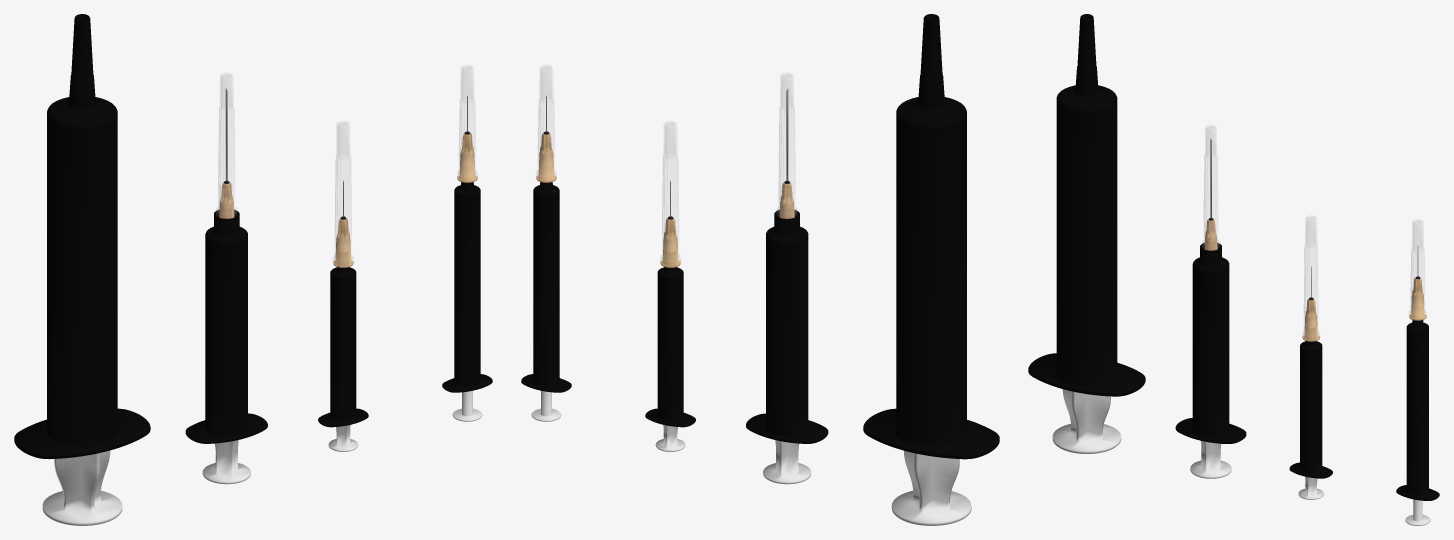
The model's file is medical_collection_012_fbx.fbx.
3 renders of one model, left to right at view 1: azimuth 30°, elevation 25°; view 2: azimuth 150°, elevation 25°; view 3: azimuth 330°, elevation 25°, orthographic. The views are drawn at different scales.
Parts seen in each view (by area): view 1: Mesh_013, Mesh_021, Mesh_001, Mesh_012, Mesh_005, Mesh_016, Mesh_018, Mesh_017, Mesh_019, Mesh_022, Mesh_004; view 2: Mesh_013, Mesh_021, Mesh_001, Mesh_012, Mesh_005, Mesh_016, Mesh_018, Mesh_017, Mesh_019, Mesh_004, Mesh_022; view 3: Mesh_013, Mesh_021, Mesh_001, Mesh_012, Mesh_005, Mesh_018, Mesh_016, Mesh_017, Mesh_019, Mesh_004, Mesh_022.
Boxes of the visible parts, x1=… form: Mesh_013: x1=14, y1=14, x2=150, y2=459; Mesh_021: x1=185, y1=208, x2=267, y2=443; Mesh_001: x1=442, y1=182, x2=492, y2=392; Mesh_012: x1=318, y1=252, x2=368, y2=427; Mesh_005: x1=42, y1=450, x2=122, y2=525; Mesh_016: x1=216, y1=73, x2=236, y2=217; Mesh_018: x1=333, y1=121, x2=353, y2=265; Mesh_017: x1=457, y1=65, x2=477, y2=180; Mesh_019: x1=202, y1=440, x2=250, y2=484; Mesh_022: x1=333, y1=218, x2=353, y2=267; Mesh_004: x1=457, y1=132, x2=477, y2=182; Mesh_013: x1=863, y1=14, x2=999, y2=459; Mesh_021: x1=746, y1=208, x2=828, y2=443; Mesh_001: x1=521, y1=182, x2=571, y2=392; Mesh_012: x1=645, y1=251, x2=695, y2=427; Mesh_005: x1=891, y1=450, x2=971, y2=525; Mesh_016: x1=777, y1=73, x2=796, y2=217; Mesh_018: x1=660, y1=121, x2=680, y2=265; Mesh_017: x1=536, y1=65, x2=556, y2=180; Mesh_019: x1=763, y1=440, x2=811, y2=484; Mesh_004: x1=536, y1=133, x2=556, y2=182; Mesh_022: x1=660, y1=218, x2=680, y2=267; Mesh_013: x1=1028, y1=14, x2=1145, y2=396; Mesh_021: x1=1175, y1=242, x2=1246, y2=443; Mesh_001: x1=1396, y1=320, x2=1439, y2=500; Mesh_012: x1=1289, y1=328, x2=1332, y2=478; Mesh_005: x1=1052, y1=389, x2=1121, y2=453; Mesh_018: x1=1302, y1=216, x2=1319, y2=339; Mesh_016: x1=1202, y1=125, x2=1219, y2=249; Mesh_017: x1=1409, y1=219, x2=1426, y2=318; Mesh_019: x1=1190, y1=441, x2=1231, y2=478; Mesh_004: x1=1409, y1=277, x2=1426, y2=320; Mesh_022: x1=1302, y1=298, x2=1319, y2=341.
Bounding box in the file's own units: 7.97 × 8 × 1.31.
